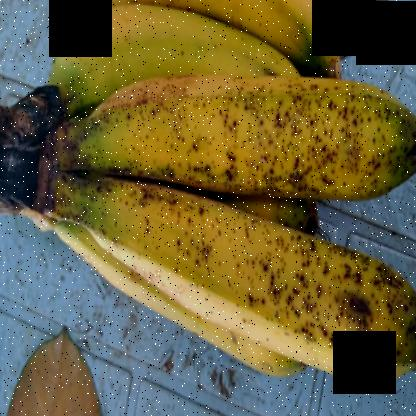ripe: (72, 184, 411, 391), (50, 56, 406, 215)
